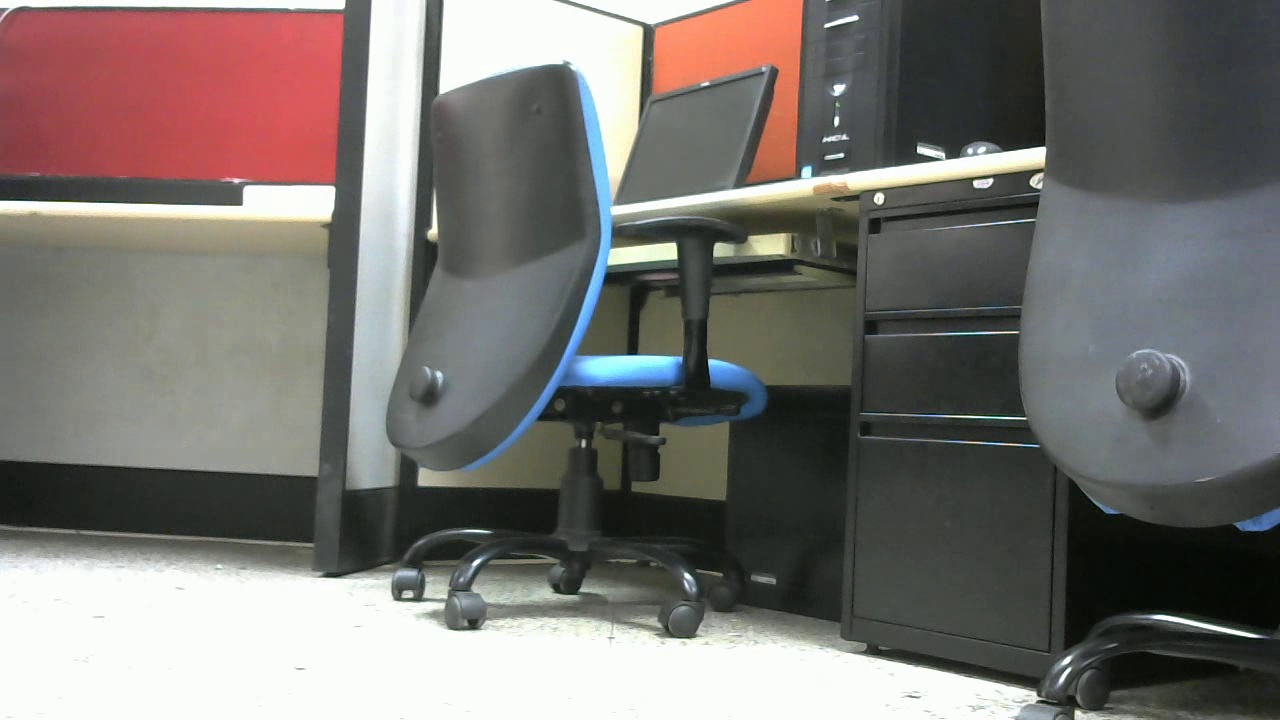chair: (379, 63, 771, 644), (1014, 1, 1257, 695)
